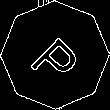P_NE: (24, 24, 86, 86)
